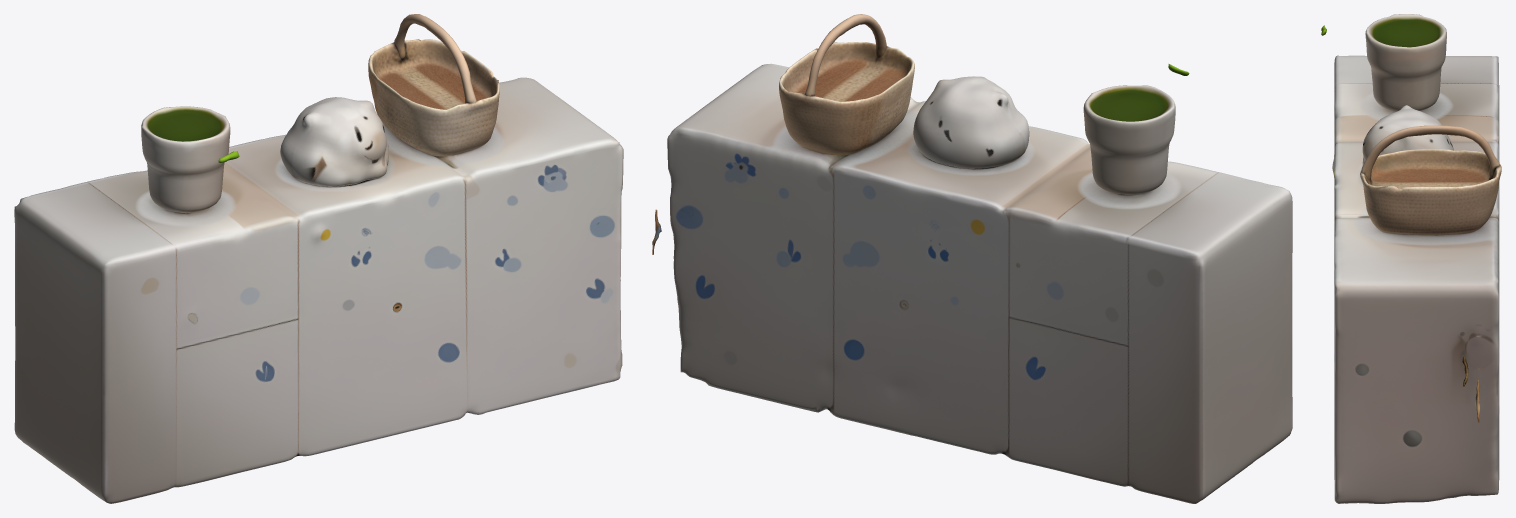
File: kids柜子 (2).fbx
3 views of the same model, side by side, from view 1: azimuth 30°, elevation 25°; view 2: azimuth 150°, elevation 25°; view 3: azimuth 270°, elevation 25° (orthographic). The views are drawn at different scales.
Visible parts, largest first — view 1: root.0, root.1, root.3, root.4, root.6; view 2: root.0, root.1, root.3, root.4, root.6; view 3: root.0, root.1, root.3, root.4, root.6, root.5.
Boxes of the visible parts, x1=… form: root.0: x1=14, y1=77, x2=623, y2=503; root.1: x1=368, y1=39, x2=499, y2=156; root.3: x1=141, y1=106, x2=230, y2=213; root.4: x1=280, y1=97, x2=388, y2=186; root.6: x1=394, y1=14, x2=476, y2=103; root.0: x1=667, y1=63, x2=1292, y2=503; root.1: x1=779, y1=42, x2=914, y2=155; root.3: x1=1083, y1=85, x2=1175, y2=195; root.4: x1=913, y1=76, x2=1029, y2=168; root.6: x1=805, y1=14, x2=886, y2=96; root.0: x1=1332, y1=55, x2=1499, y2=503; root.1: x1=1360, y1=149, x2=1501, y2=235; root.3: x1=1365, y1=14, x2=1446, y2=111; root.4: x1=1362, y1=105, x2=1453, y2=164; root.6: x1=1361, y1=125, x2=1499, y2=180; root.5: x1=1462, y1=355, x2=1479, y2=422.
Size of the model in its own units: 175 by 108 by 55.03.
Materials: 7 (7 with a texture image).
